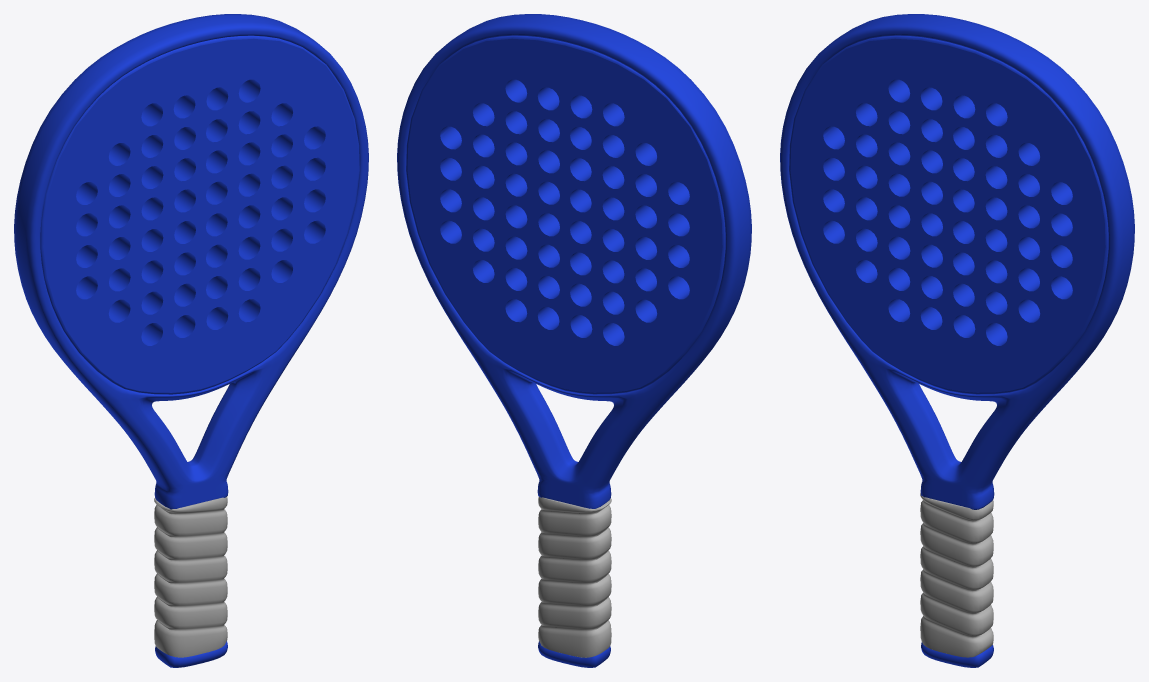
The model's file is Padel.glb.
3 views of the same model, side by side, from view 1: azimuth 30°, elevation 25°; view 2: azimuth 150°, elevation 25°; view 3: azimuth 330°, elevation 25° (orthographic).
Parts seen in each view (by area): view 1: padel in, padel frame, padel handle; view 2: padel in, padel frame, padel handle; view 3: padel in, padel frame, padel handle.
Part boxes in pixels (box(x1,y1,x2,y2)): padel in: box(40, 35, 359, 394); padel frame: box(14, 14, 368, 667); padel handle: box(154, 496, 227, 657); padel in: box(406, 35, 725, 394); padel frame: box(397, 14, 751, 667); padel handle: box(538, 496, 611, 657); padel in: box(789, 35, 1108, 394); padel frame: box(780, 14, 1134, 667); padel handle: box(920, 493, 993, 657).
Size of the model in its own units: 2.49 by 4.43 by 0.271.
